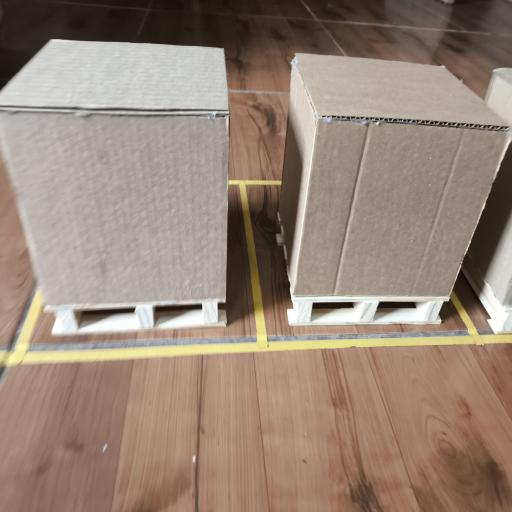pallet: (46, 301, 226, 335), (288, 294, 449, 326), (288, 296, 443, 326), (462, 258, 511, 334)
